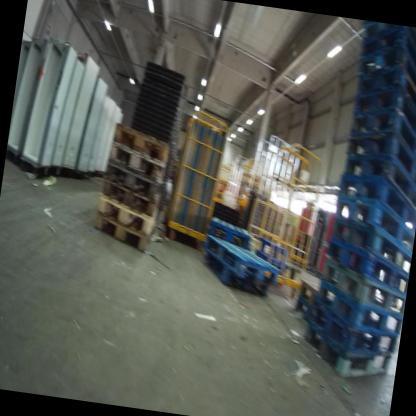pallet: (293, 317, 396, 383), (310, 278, 405, 338), (305, 296, 401, 353), (323, 237, 411, 299), (317, 258, 408, 314), (351, 55, 416, 132), (334, 169, 416, 229), (345, 100, 416, 168), (328, 214, 414, 270), (341, 126, 416, 186), (333, 196, 416, 250), (340, 156, 416, 210), (196, 246, 278, 296), (204, 234, 281, 287), (352, 39, 416, 101), (349, 85, 416, 143), (106, 118, 172, 170), (91, 212, 157, 257), (105, 140, 167, 186), (98, 175, 161, 220), (357, 25, 416, 73), (92, 191, 161, 232), (202, 206, 256, 257), (98, 158, 166, 194), (359, 23, 416, 62), (291, 279, 340, 319), (291, 296, 318, 323)
